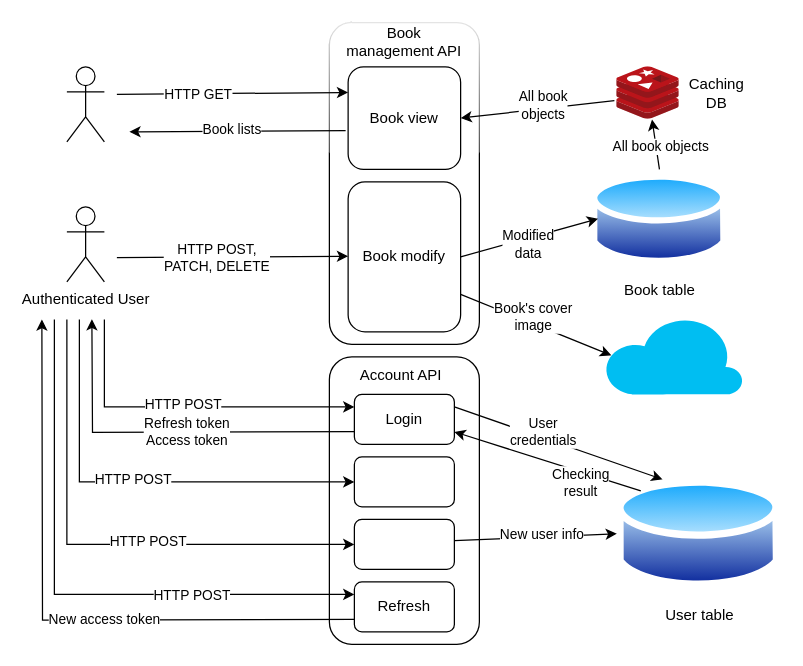
Some shapes in this 803 by 666 pixel diagram are drawn without their labels. The box of each missing label's shape, as (x1, y1, x2, y2) in pixels:
Anonymous User: (66, 66, 104, 142)
Cloudinary image cloud: (604, 316, 742, 394)
Logout: (353, 456, 454, 507)
Register: (353, 518, 454, 569)
